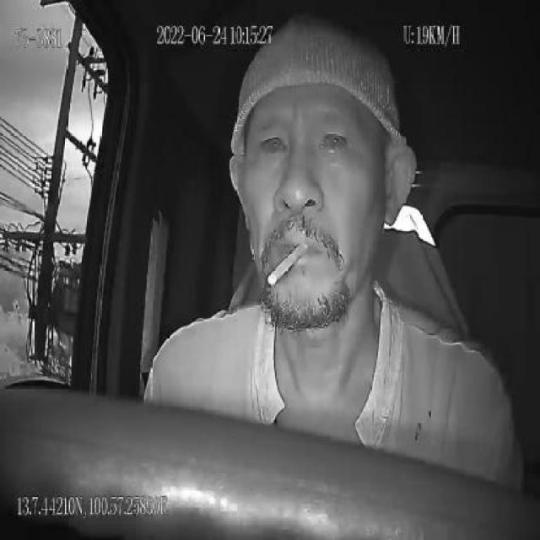smoking: (266, 242, 312, 290)
